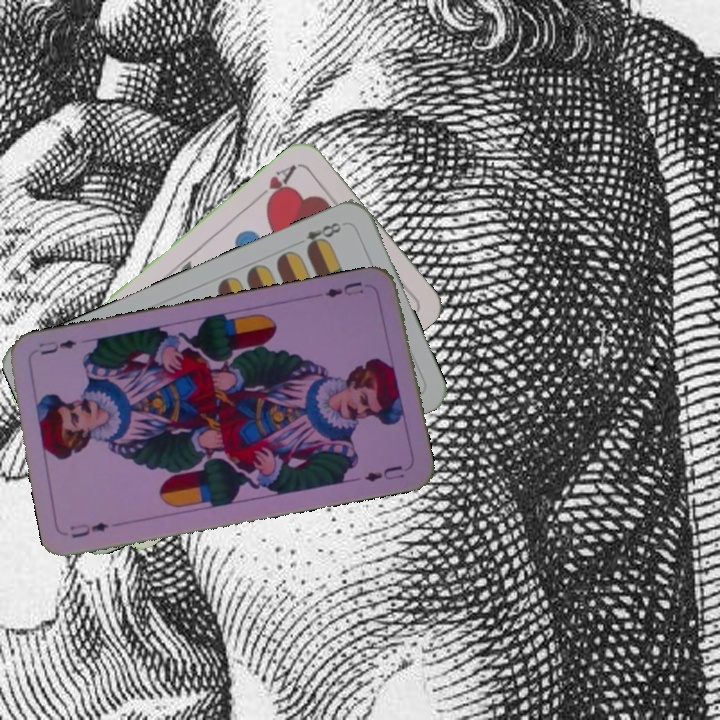E8: (302, 218, 344, 254)
EU: (320, 277, 366, 300), (66, 518, 112, 541)
HA: (252, 160, 303, 208)
